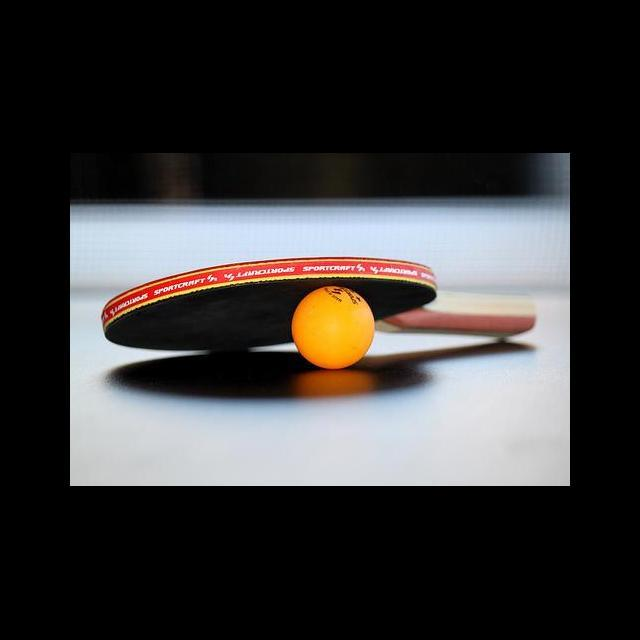ping-pong-ball: (290, 286, 374, 372)
